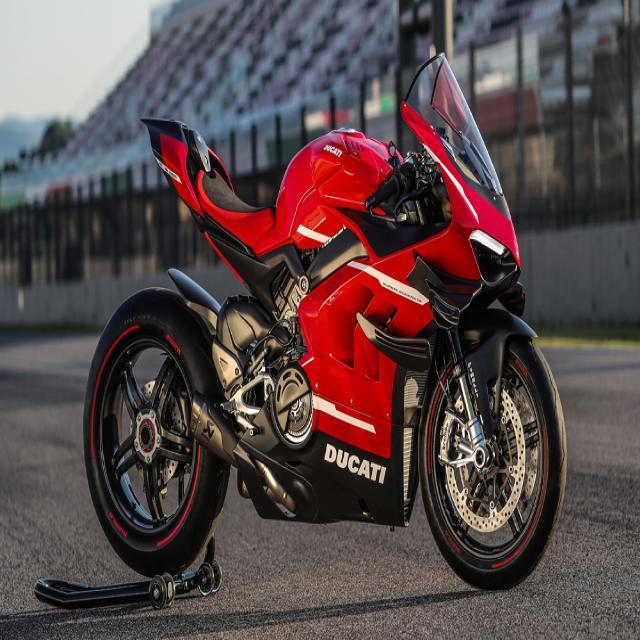motorcycle: (75, 51, 568, 597)
